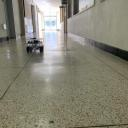cart: (25, 38, 44, 52)
